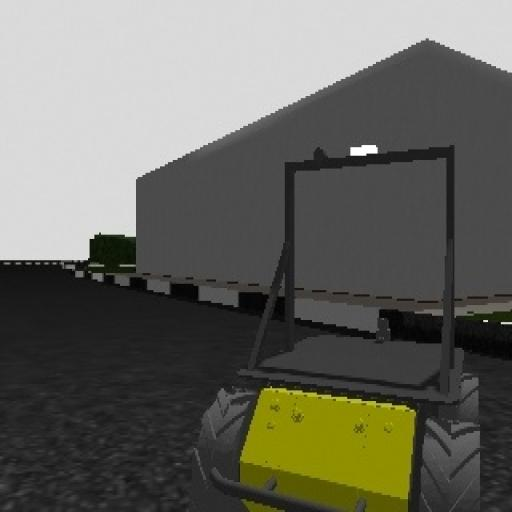huskya200: (200, 143, 490, 512)
